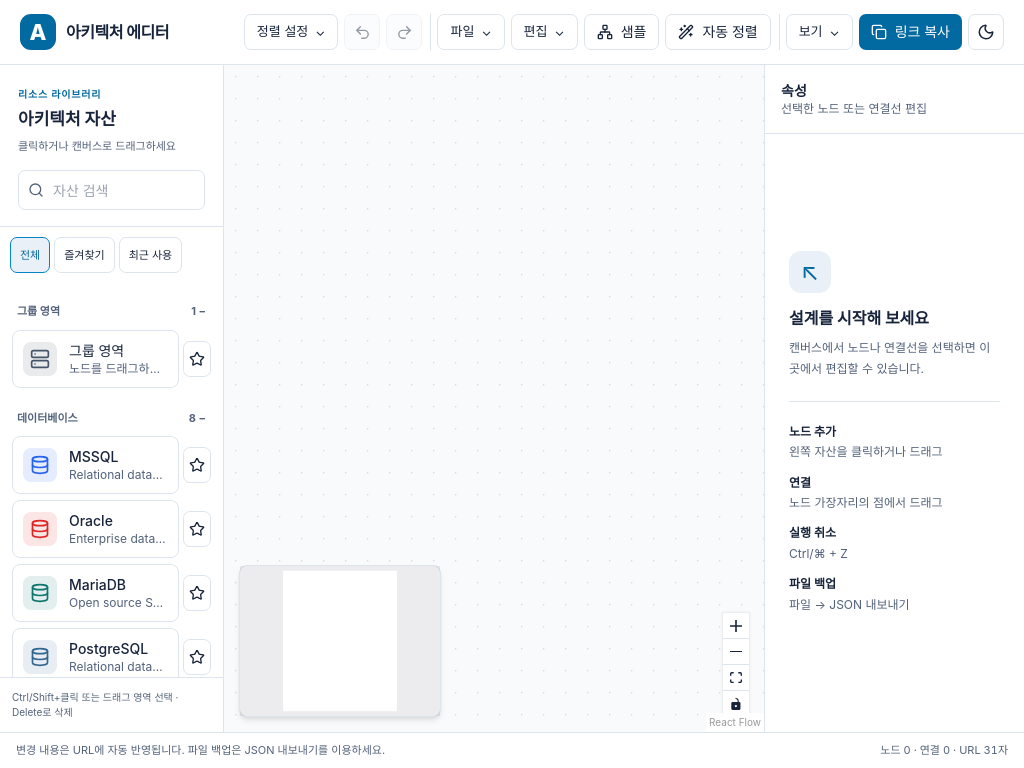
Scenario: warns for oversized URLs and allows JSON backup without overwriting a valid saved URL
Click the button "샘플". click: click(622, 32)
box: [584, 14, 659, 50]
Wait 400 ms
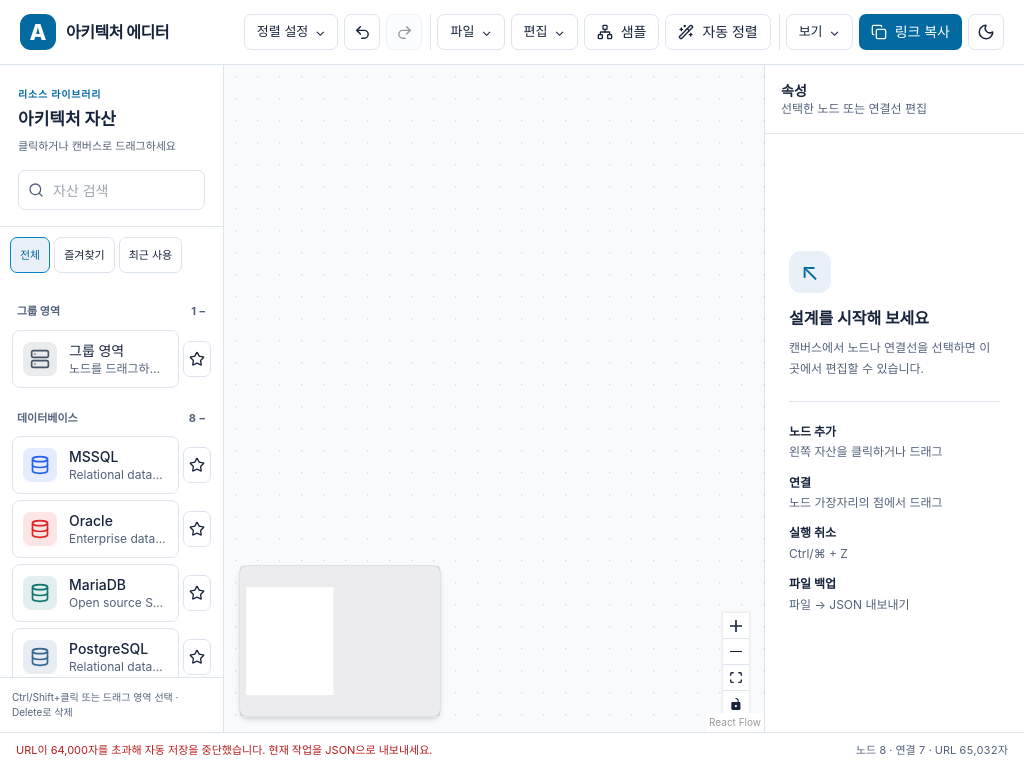
Check: the message shows "JSON으로 내보내세요", box [16, 743, 432, 757]
